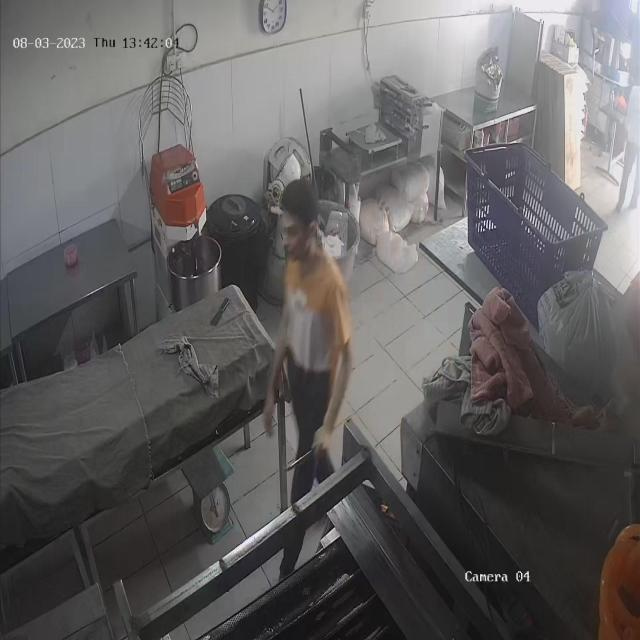Knife: (279, 445, 317, 475)
